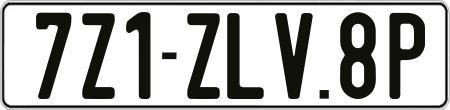1: (125, 10, 154, 101)
7: (35, 12, 70, 103)
8: (340, 11, 380, 99)
L: (227, 12, 268, 100)
P: (388, 11, 426, 98)
V: (275, 13, 317, 102)
Z: (184, 13, 222, 103), (79, 11, 112, 98)
